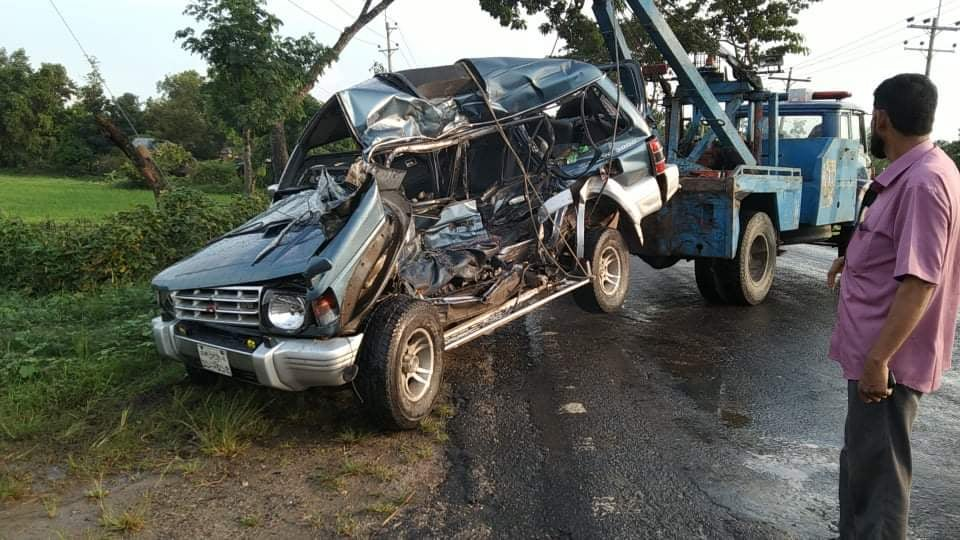accident: (137, 26, 680, 433)
